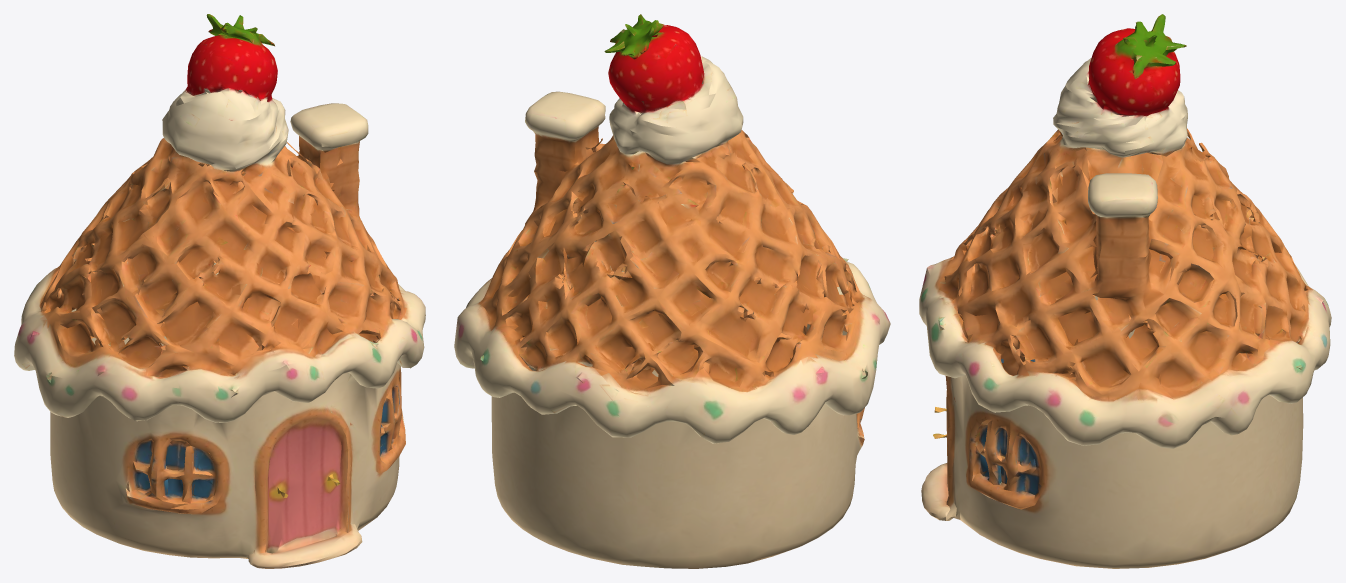
File: cottage.glb
The picture shows the model from 3 angles, left to right: view 1: azimuth 30°, elevation 25°; view 2: azimuth 150°, elevation 25°; view 3: azimuth 270°, elevation 25°; orthographic projection. The views are drawn at different scales.
Parts seen in each view (by area): view 1: Mesh_0; view 2: Mesh_0; view 3: Mesh_0.
Part boxes in pixels (left/top/right/bottom): Mesh_0: left=14, top=14, right=425, bottom=568; Mesh_0: left=454, top=14, right=890, bottom=568; Mesh_0: left=919, top=14, right=1331, bottom=568.
Bounding box in the file's own units: 0.8131 × 1 × 0.7698.
1 material, 1 textured.
